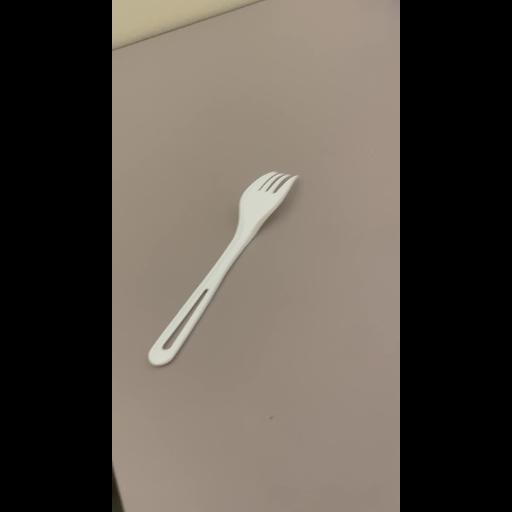utensil: (138, 166, 310, 374)
